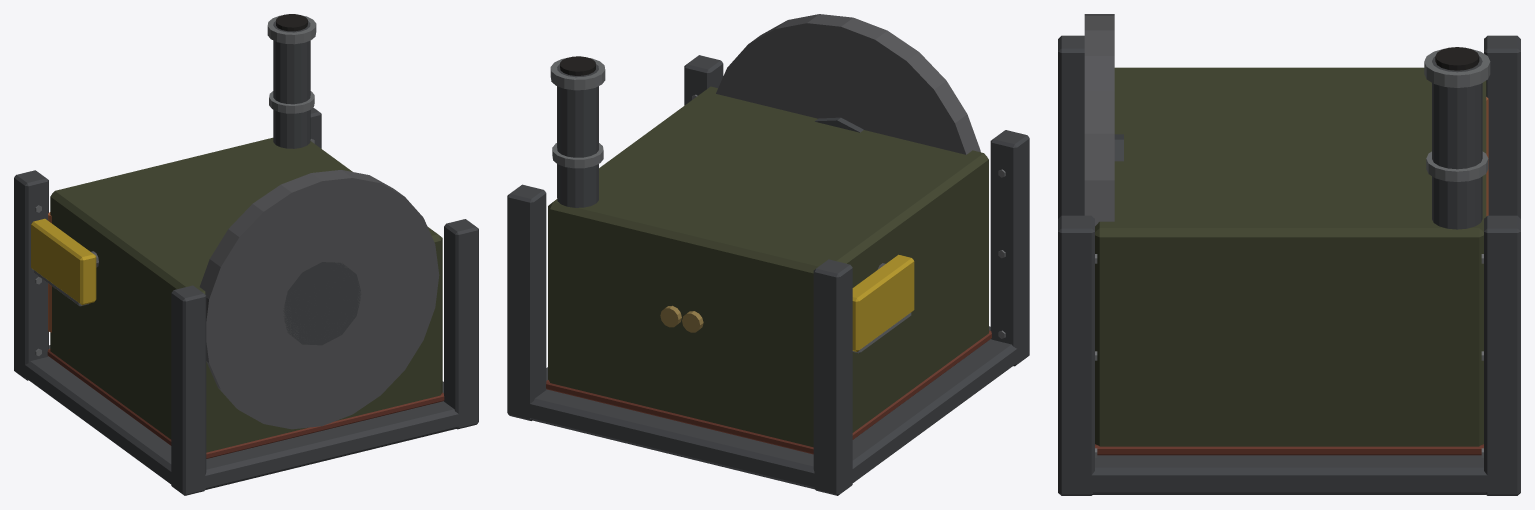
File: generator_mk1.glb
The picture shows the model from 3 angles, left to right: view 1: azimuth 30°, elevation 25°; view 2: azimuth 150°, elevation 25°; view 3: azimuth 270°, elevation 25°; orthographic projection. The views are drawn at different scales.
Parts seen in each view (by area): view 1: generator_mk1_OiledSteel, generator_mk1_CastIron, generator_mk1_OliveDrab, generator_mk1_HazardYellow, generator_mk1_OxideRed, generator_mk1_WeldedSteel; view 2: generator_mk1_OliveDrab, generator_mk1_CastIron, generator_mk1_OiledSteel, generator_mk1_HazardYellow, generator_mk1_OxideRed, generator_mk1_WeldedSteel, generator_mk1_DullBrass, generator_mk1_Soot; view 3: generator_mk1_OliveDrab, generator_mk1_CastIron, generator_mk1_OiledSteel, generator_mk1_OxideRed, generator_mk1_WeldedSteel, generator_mk1_Soot.
Part boxes in pixels (x1,y1,x2,y2): generator_mk1_OiledSteel: (91, 170, 439, 429); generator_mk1_CastIron: (14, 21, 478, 495); generator_mk1_OliveDrab: (50, 137, 442, 452); generator_mk1_HazardYellow: (31, 218, 96, 305); generator_mk1_OxideRed: (47, 349, 444, 458); generator_mk1_WeldedSteel: (34, 15, 316, 355); generator_mk1_OliveDrab: (548, 86, 988, 447); generator_mk1_CastIron: (507, 55, 1029, 495); generator_mk1_OiledSteel: (716, 14, 980, 269); generator_mk1_HazardYellow: (852, 254, 914, 351); generator_mk1_OxideRed: (546, 330, 991, 454); generator_mk1_WeldedSteel: (550, 58, 1005, 353); generator_mk1_DullBrass: (660, 305, 703, 332); generator_mk1_Soot: (560, 56, 595, 75); generator_mk1_OliveDrab: (1095, 67, 1486, 446); generator_mk1_CastIron: (1058, 35, 1520, 495); generator_mk1_OiledSteel: (1084, 14, 1114, 225); generator_mk1_OxideRed: (1095, 444, 1483, 455); generator_mk1_WeldedSteel: (1095, 48, 1490, 457); generator_mk1_Soot: (1435, 47, 1479, 70).
Bounding box in the file's own units: 4 × 3.95 × 4.
